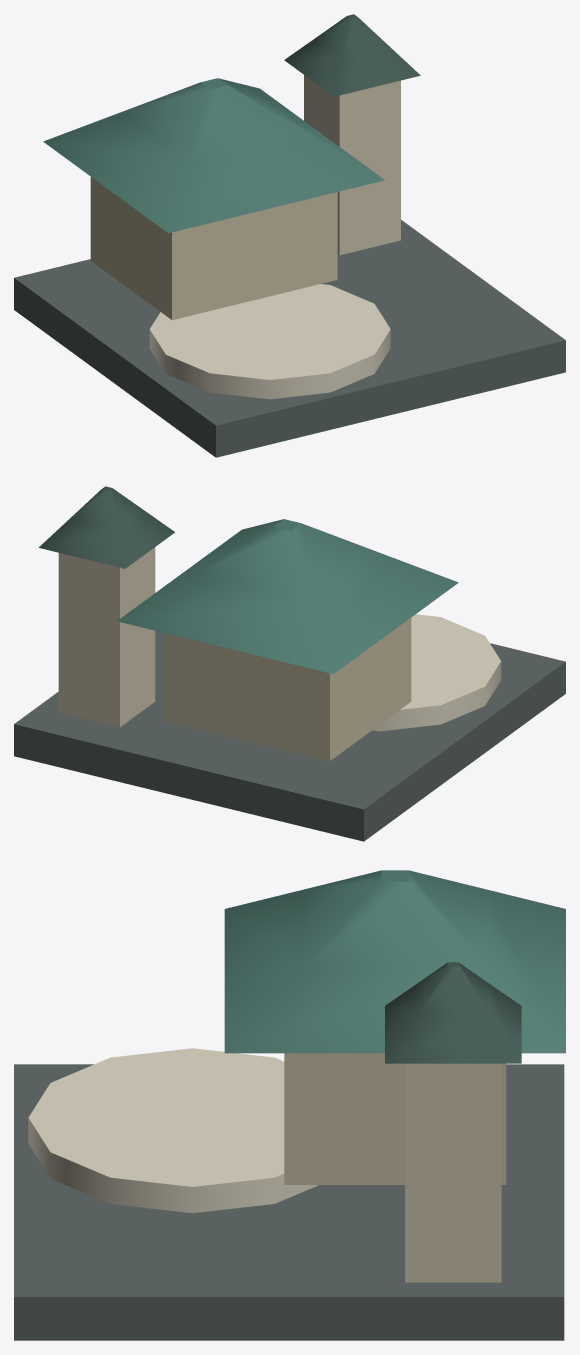
File: xiu_lian_fen_feng.glb
The picture shows the model from 3 angles, top to bottom: view 1: azimuth 30°, elevation 25°; view 2: azimuth 150°, elevation 25°; view 3: azimuth 270°, elevation 25°; orthographic projection. The views are drawn at different scales.
Visible parts, largest first — view 1: _MeshInstance3D_79, _MeshInstance3D_82, _MeshInstance3D_81, _MeshInstance3D_80, _MeshInstance3D_83, _MeshInstance3D_84; view 2: _MeshInstance3D_79, _MeshInstance3D_82, _MeshInstance3D_81, _MeshInstance3D_83, _MeshInstance3D_80, _MeshInstance3D_84; view 3: _MeshInstance3D_79, _MeshInstance3D_82, _MeshInstance3D_80, _MeshInstance3D_83, _MeshInstance3D_81, _MeshInstance3D_84.
Boxes of the visible parts, x1,y1,x2,y2 form: _MeshInstance3D_79: (14,220,565,457); _MeshInstance3D_82: (43,78,384,233); _MeshInstance3D_81: (90,177,337,319); _MeshInstance3D_80: (149,284,390,399); _MeshInstance3D_83: (304,75,400,255); _MeshInstance3D_84: (284,14,420,96); _MeshInstance3D_79: (14,631,565,841); _MeshInstance3D_82: (117,519,458,674); _MeshInstance3D_81: (164,618,411,760); _MeshInstance3D_83: (58,547,155,727); _MeshInstance3D_80: (372,614,501,731); _MeshInstance3D_84: (38,486,174,568); _MeshInstance3D_79: (14,1064,564,1340); _MeshInstance3D_82: (224,870,565,1053); _MeshInstance3D_80: (28,1048,318,1213); _MeshInstance3D_83: (405,1063,501,1282); _MeshInstance3D_81: (284,1053,506,1184); _MeshInstance3D_84: (385,962,521,1063).
Size of the model in its own units: 1.14 by 0.78 by 1.14.
